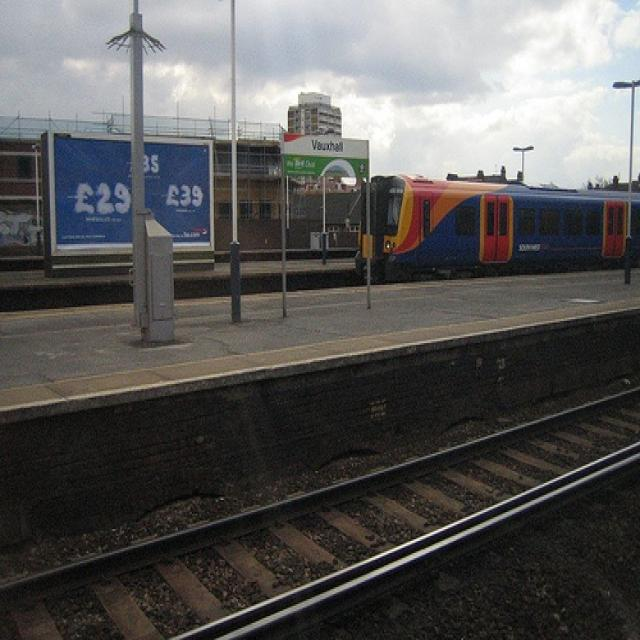train: (360, 169, 638, 283)
